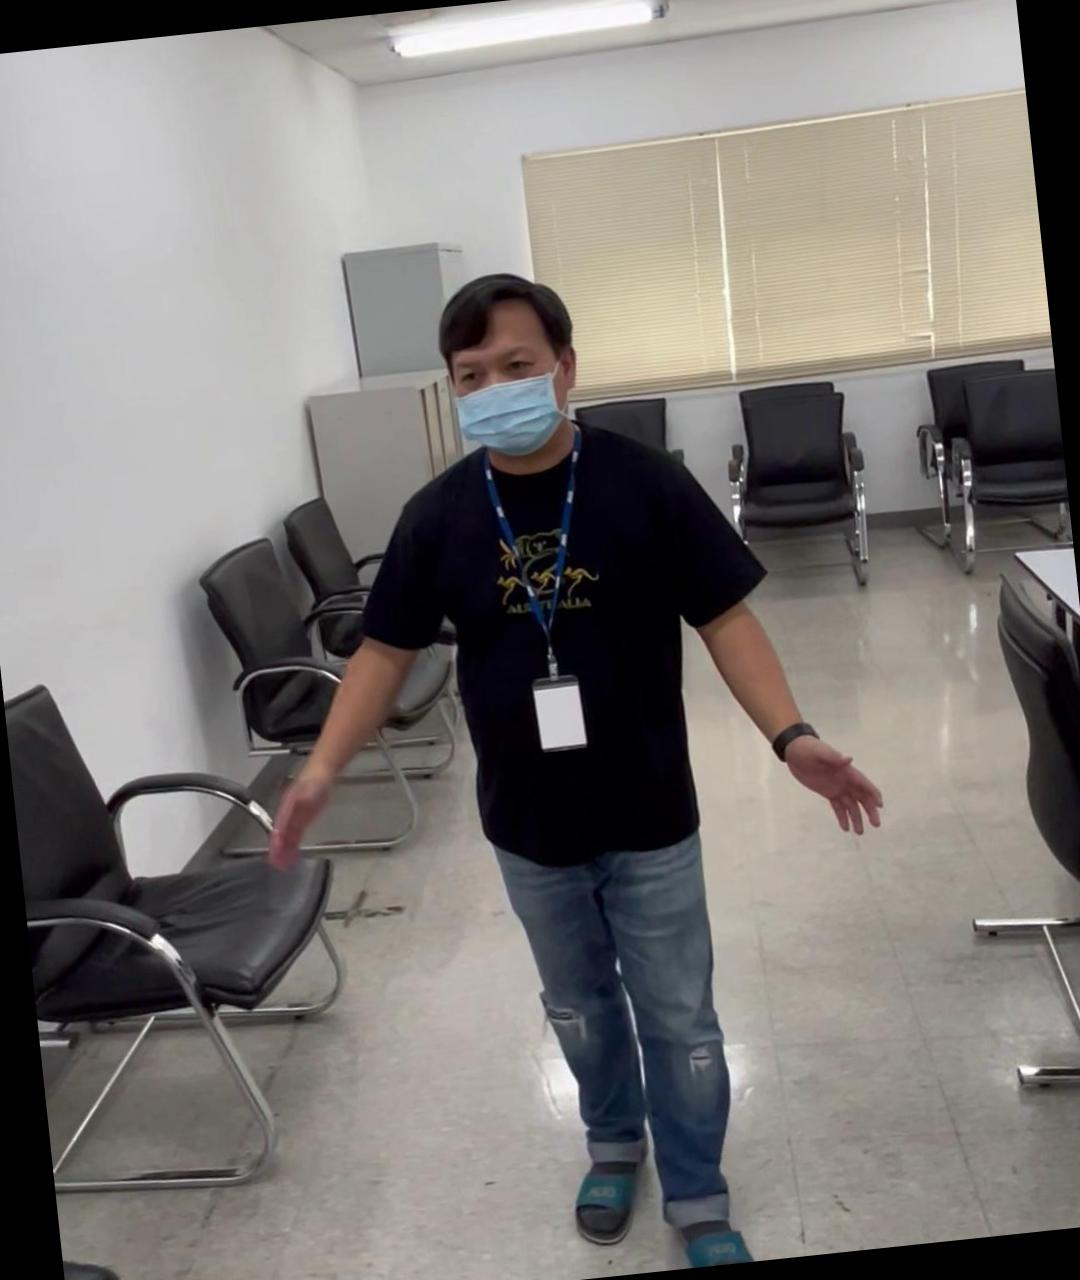No-gloves: (775, 725, 887, 847), (256, 756, 345, 878)
